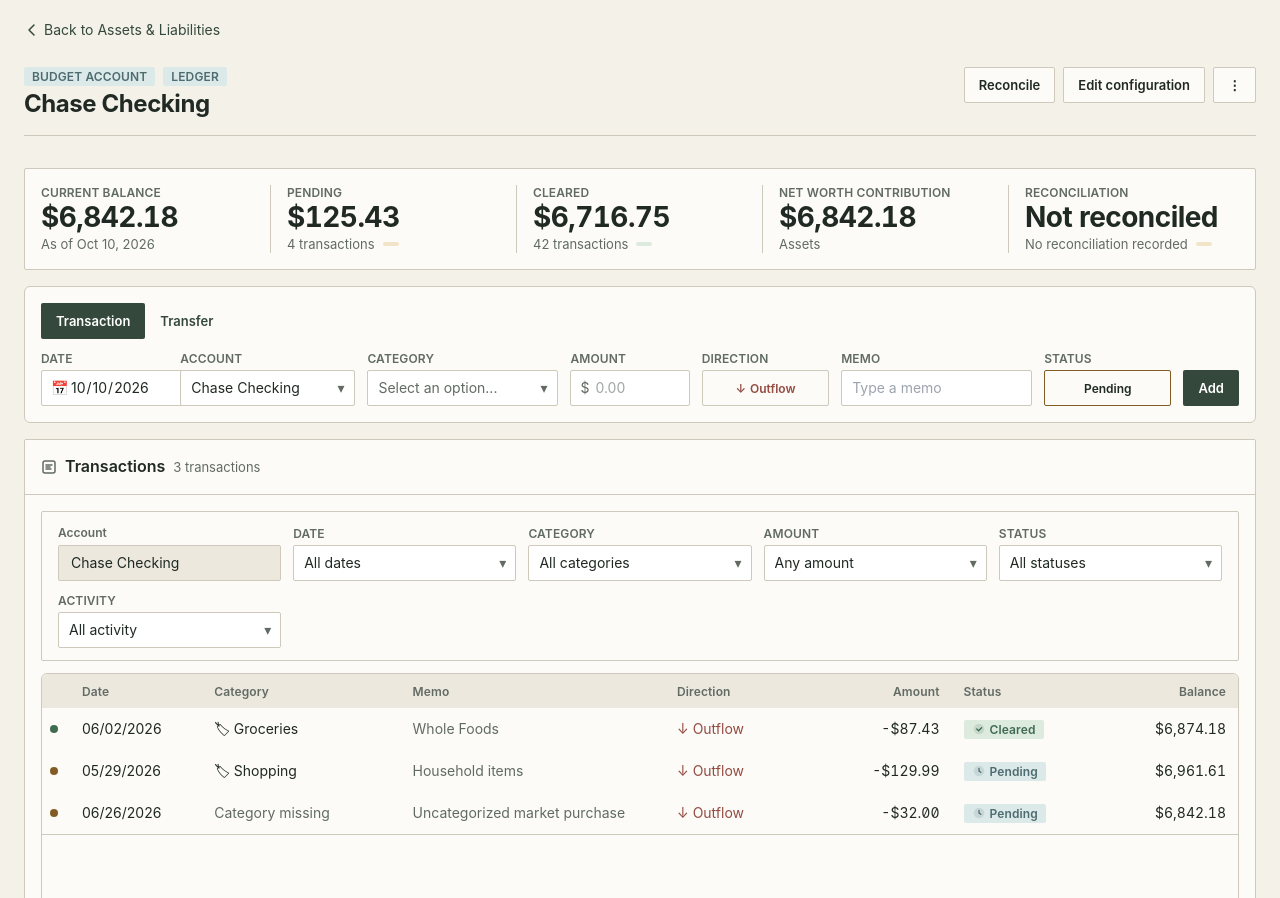
Test: AccountDetailPage › exits without a warning when no canonical transaction was changed
Step 1. Click the button with test id "account-detail-reconcile" → (1010, 85), box [964, 67, 1056, 103]
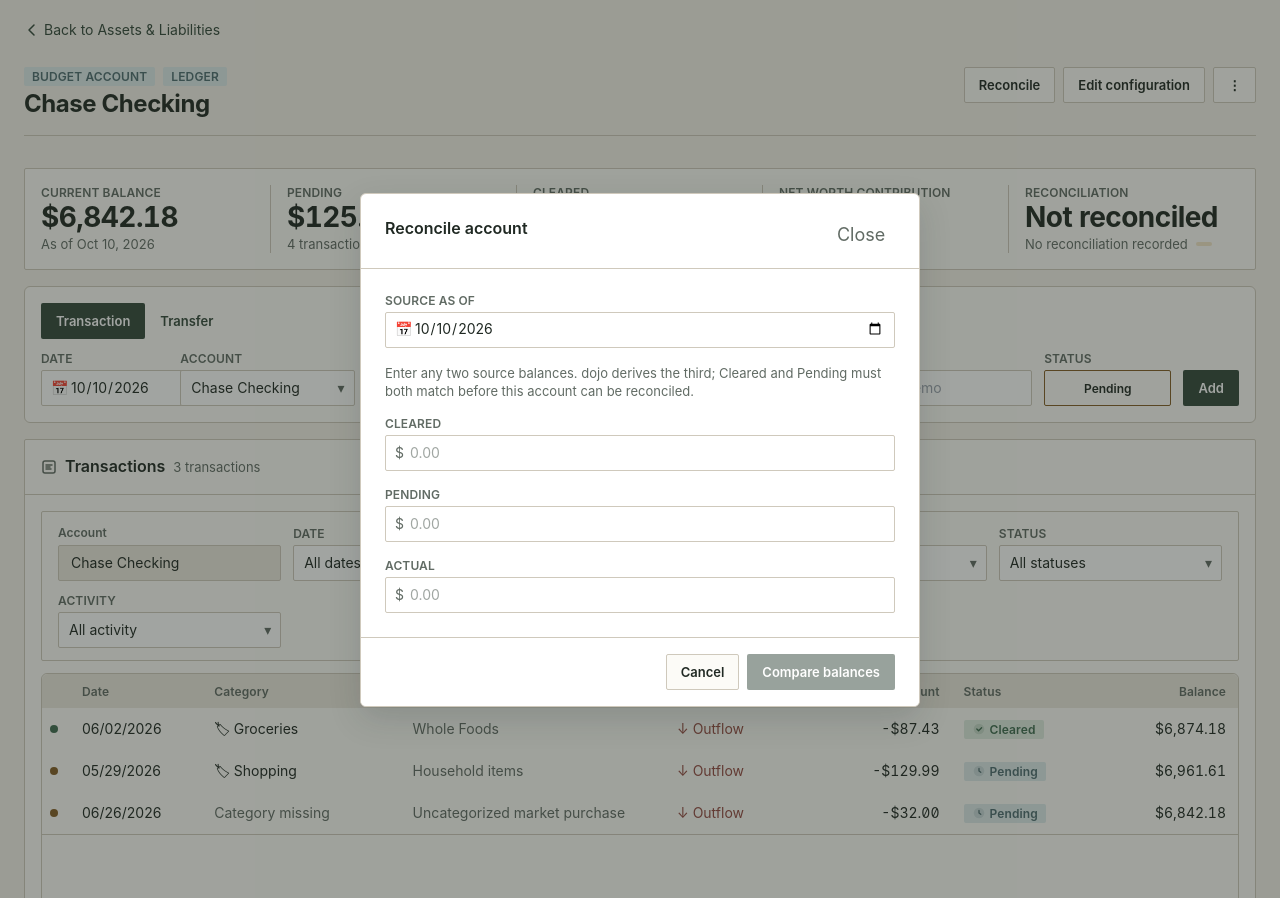
Step 2. Type "6717.75" into the field named "source-cleared" → (640, 453), box [385, 435, 895, 471]
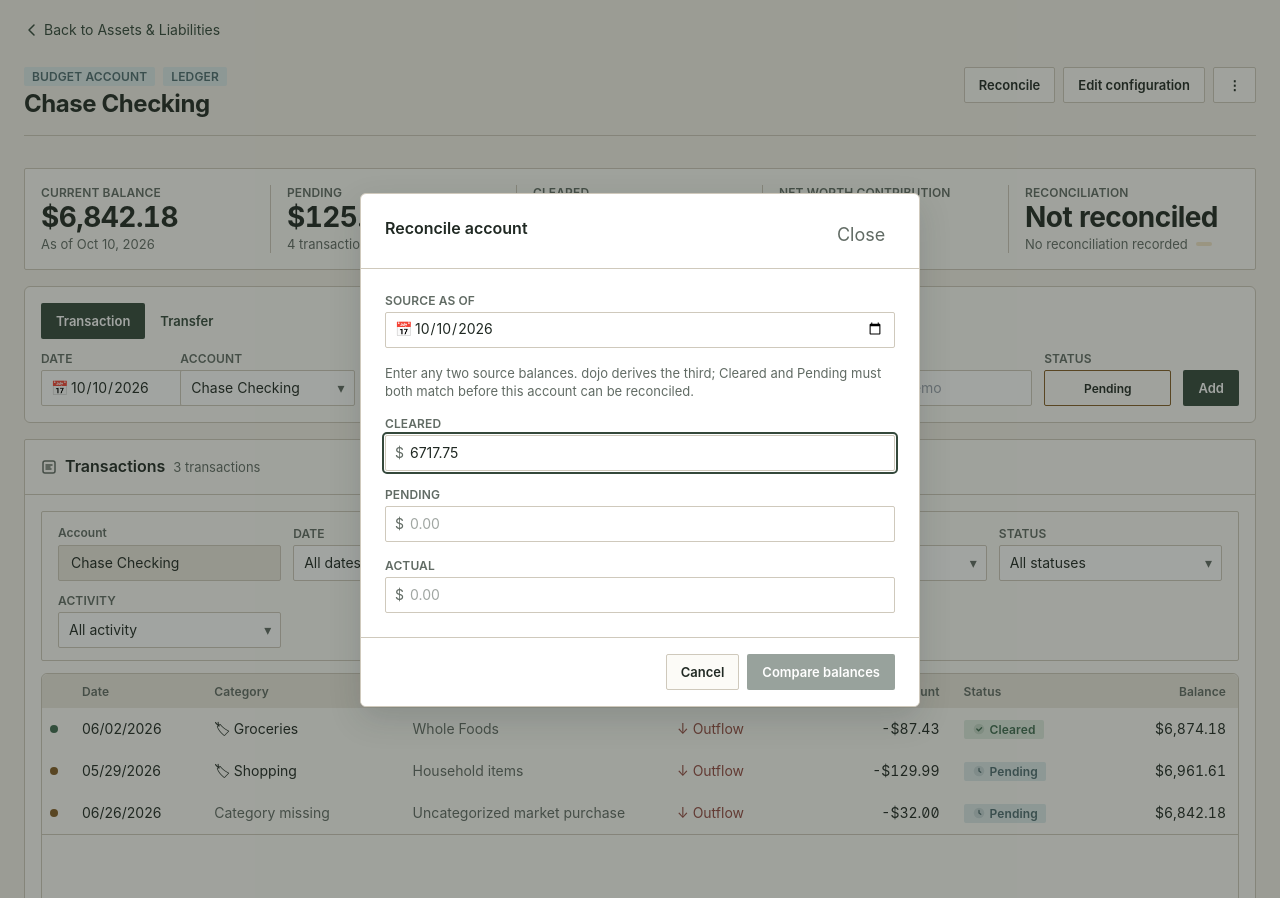
Step 3. Type "124.43" into the field named "source-pending" → (640, 524), box [385, 506, 895, 542]
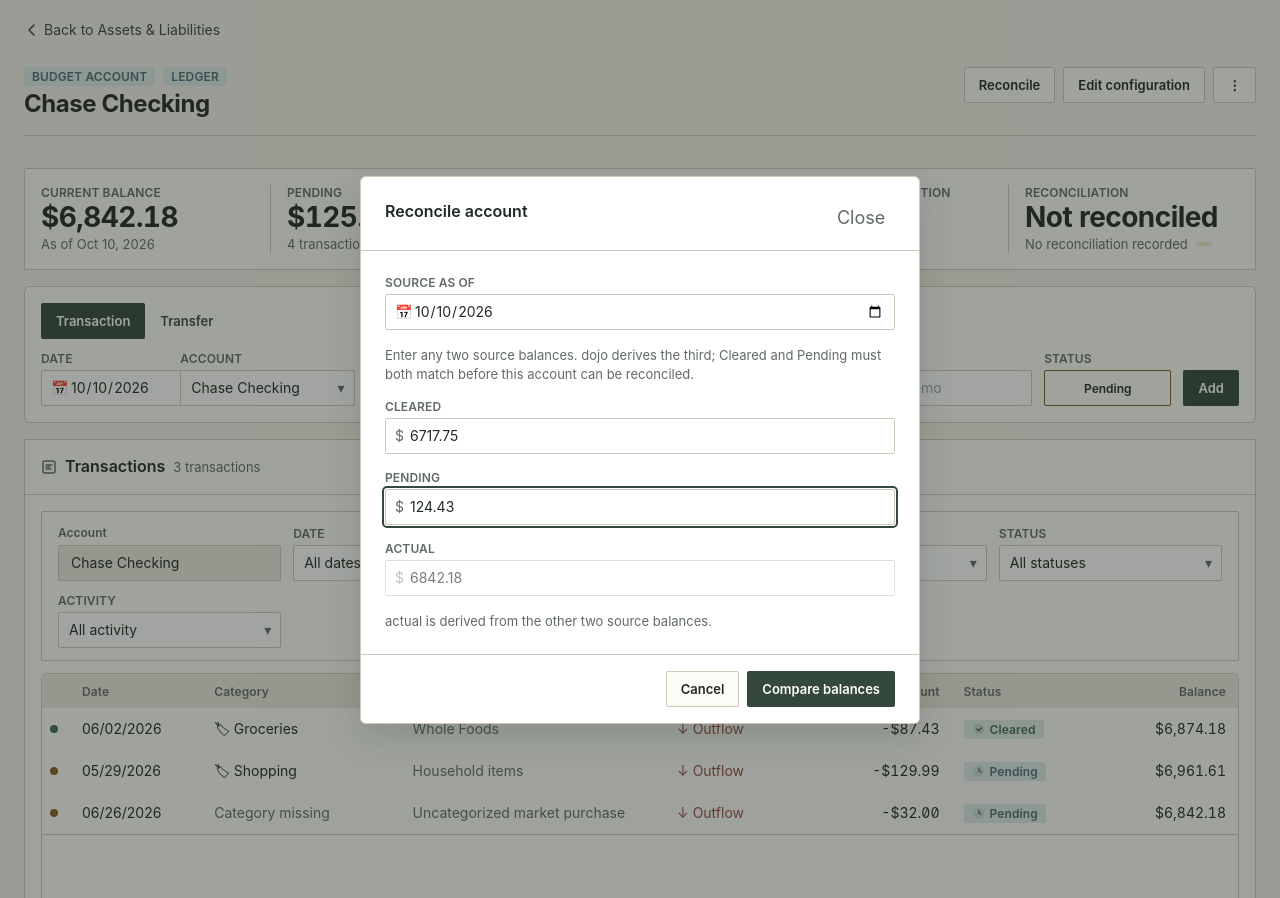
Step 4. Click the button "Compare balances" → (821, 689), box [747, 671, 895, 707]
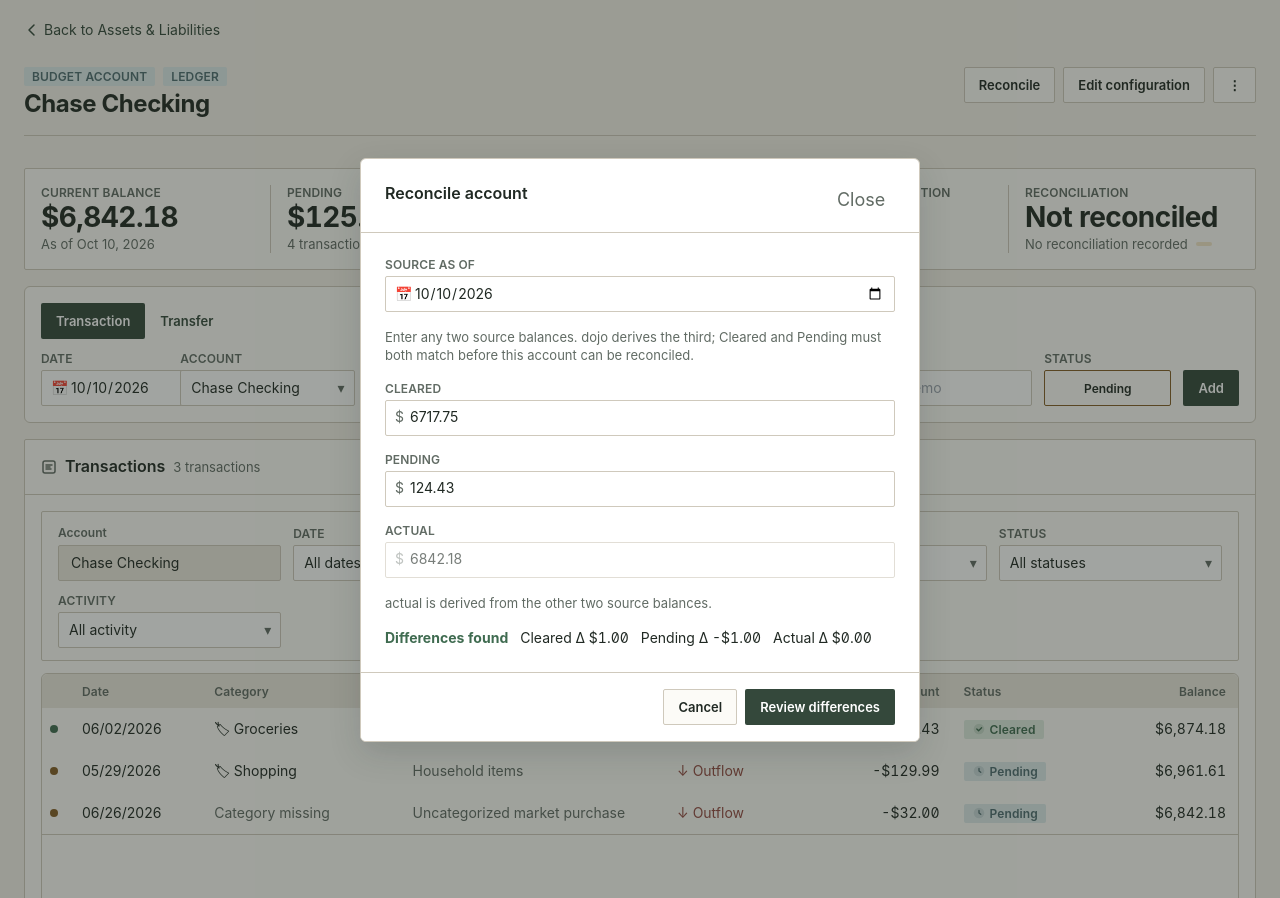
Step 5. Click the button "Review differences" → (820, 707), box [745, 689, 895, 725]
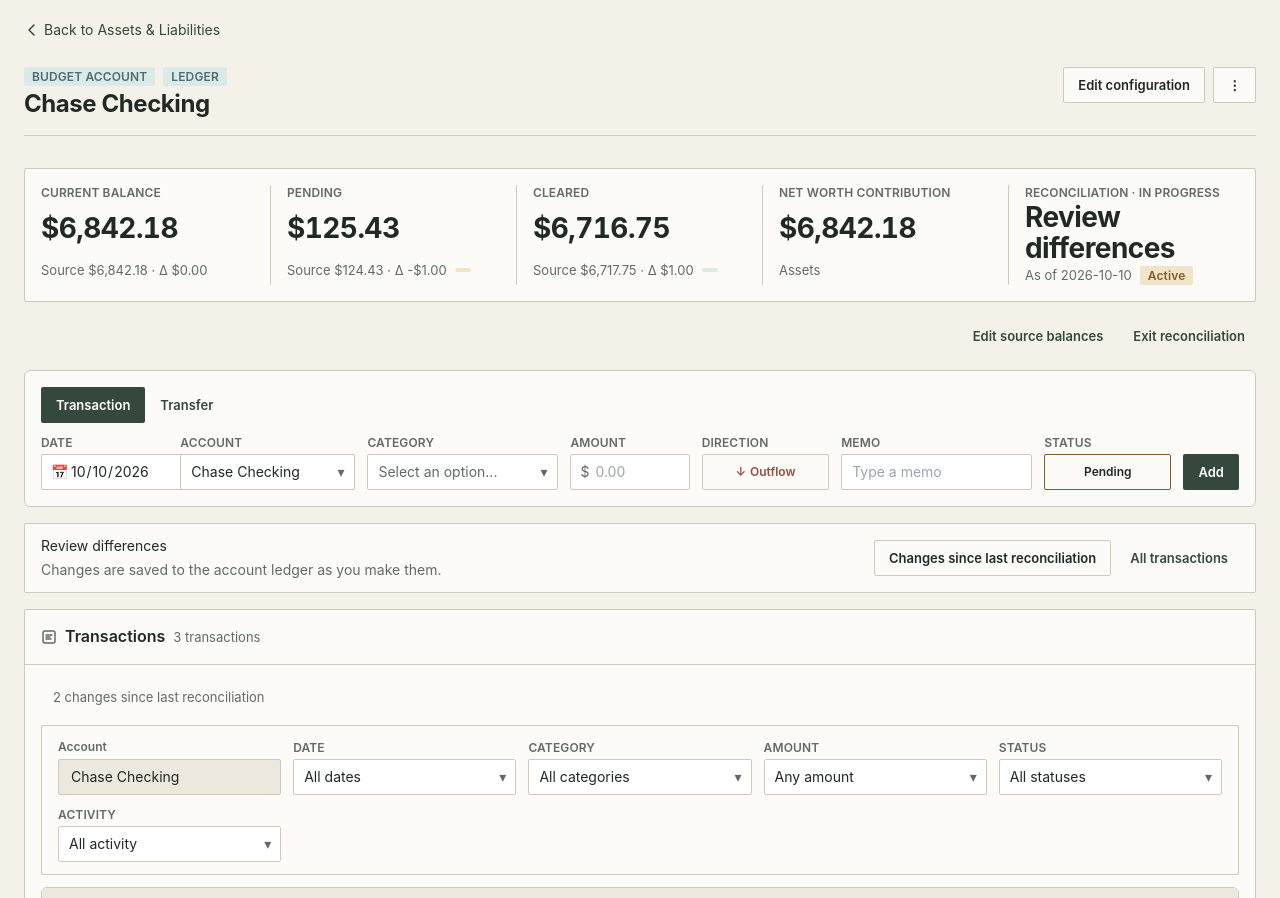
Step 6. Click the button "Exit reconciliation" → (1189, 336), box [1122, 318, 1256, 354]
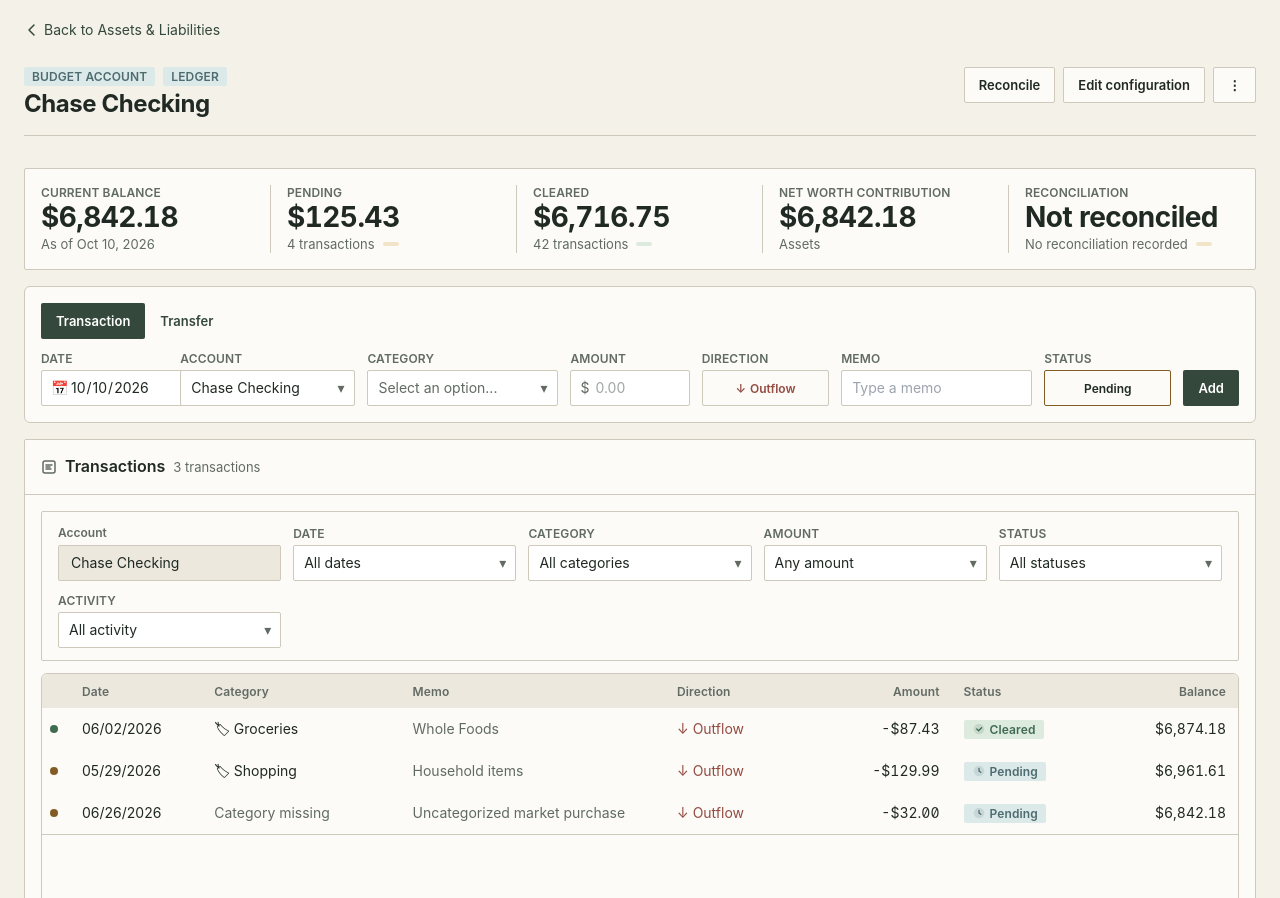
Now the element with test id "active-reconciliation-banner" is gone
